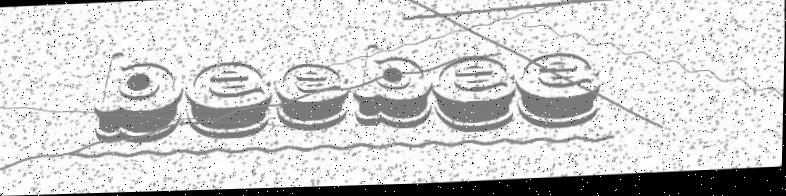b: (90, 49, 185, 146), (352, 44, 433, 132)
e: (183, 61, 275, 144), (514, 53, 601, 134), (430, 58, 518, 137), (273, 59, 349, 135)
